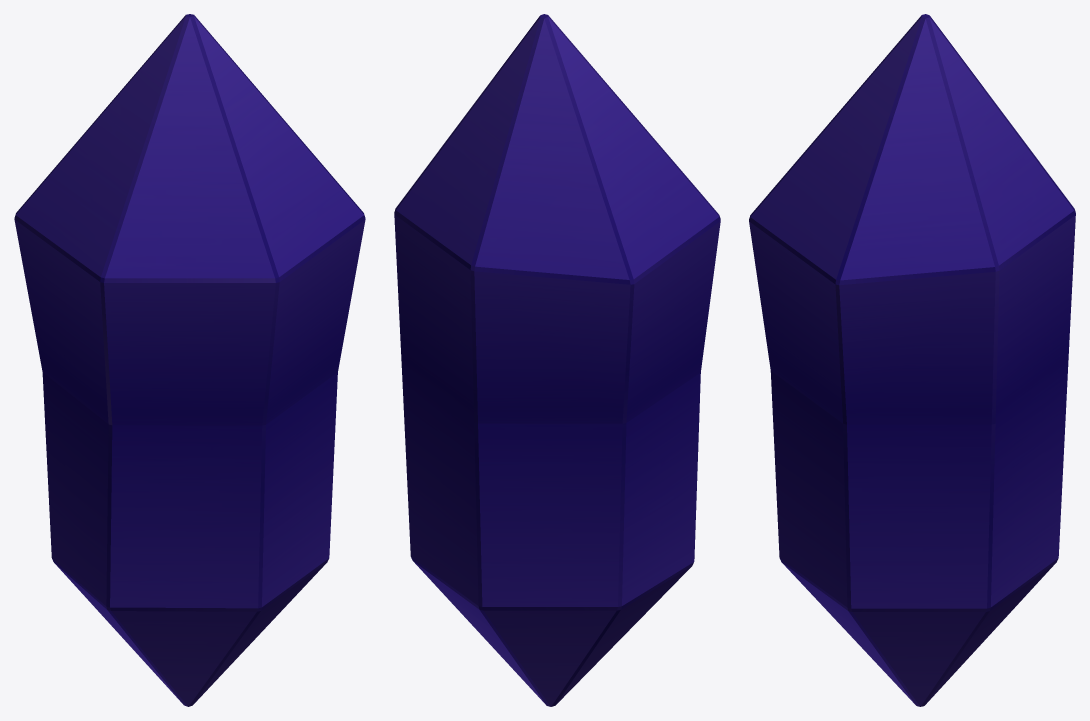
File: mana_crystal.obj
The picture shows the model from 3 angles, left to right: view 1: azimuth 30°, elevation 25°; view 2: azimuth 150°, elevation 25°; view 3: azimuth 270°, elevation 25°; orthographic projection.
Visible parts, largest first — view 1: crystal_Plane.001; view 2: crystal_Plane.001; view 3: crystal_Plane.001.
Part boxes in pixels (left/top/right/bottom): crystal_Plane.001: left=14, top=14, right=365, bottom=706; crystal_Plane.001: left=394, top=14, right=720, bottom=706; crystal_Plane.001: left=749, top=14, right=1075, bottom=706.
Bounding box in the file's own units: 0.5147 × 1.27 × 0.5463.
